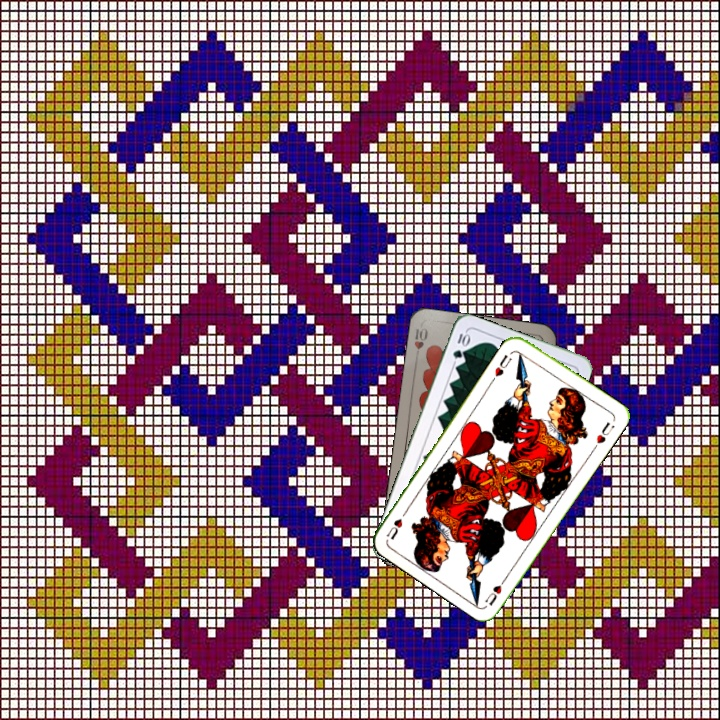G10: (449, 328, 472, 362)
H10: (410, 324, 431, 363)
HU: (481, 572, 510, 608), (490, 350, 514, 379)
